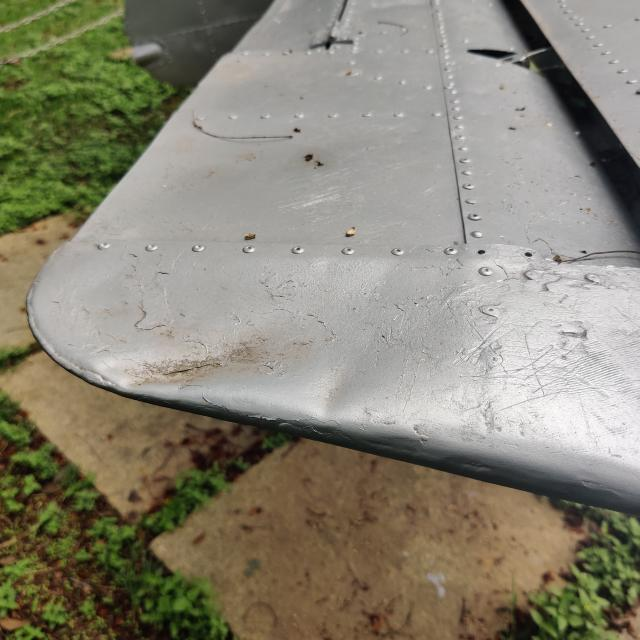dent: (279, 335, 397, 456)
scratch: (516, 294, 640, 433)
